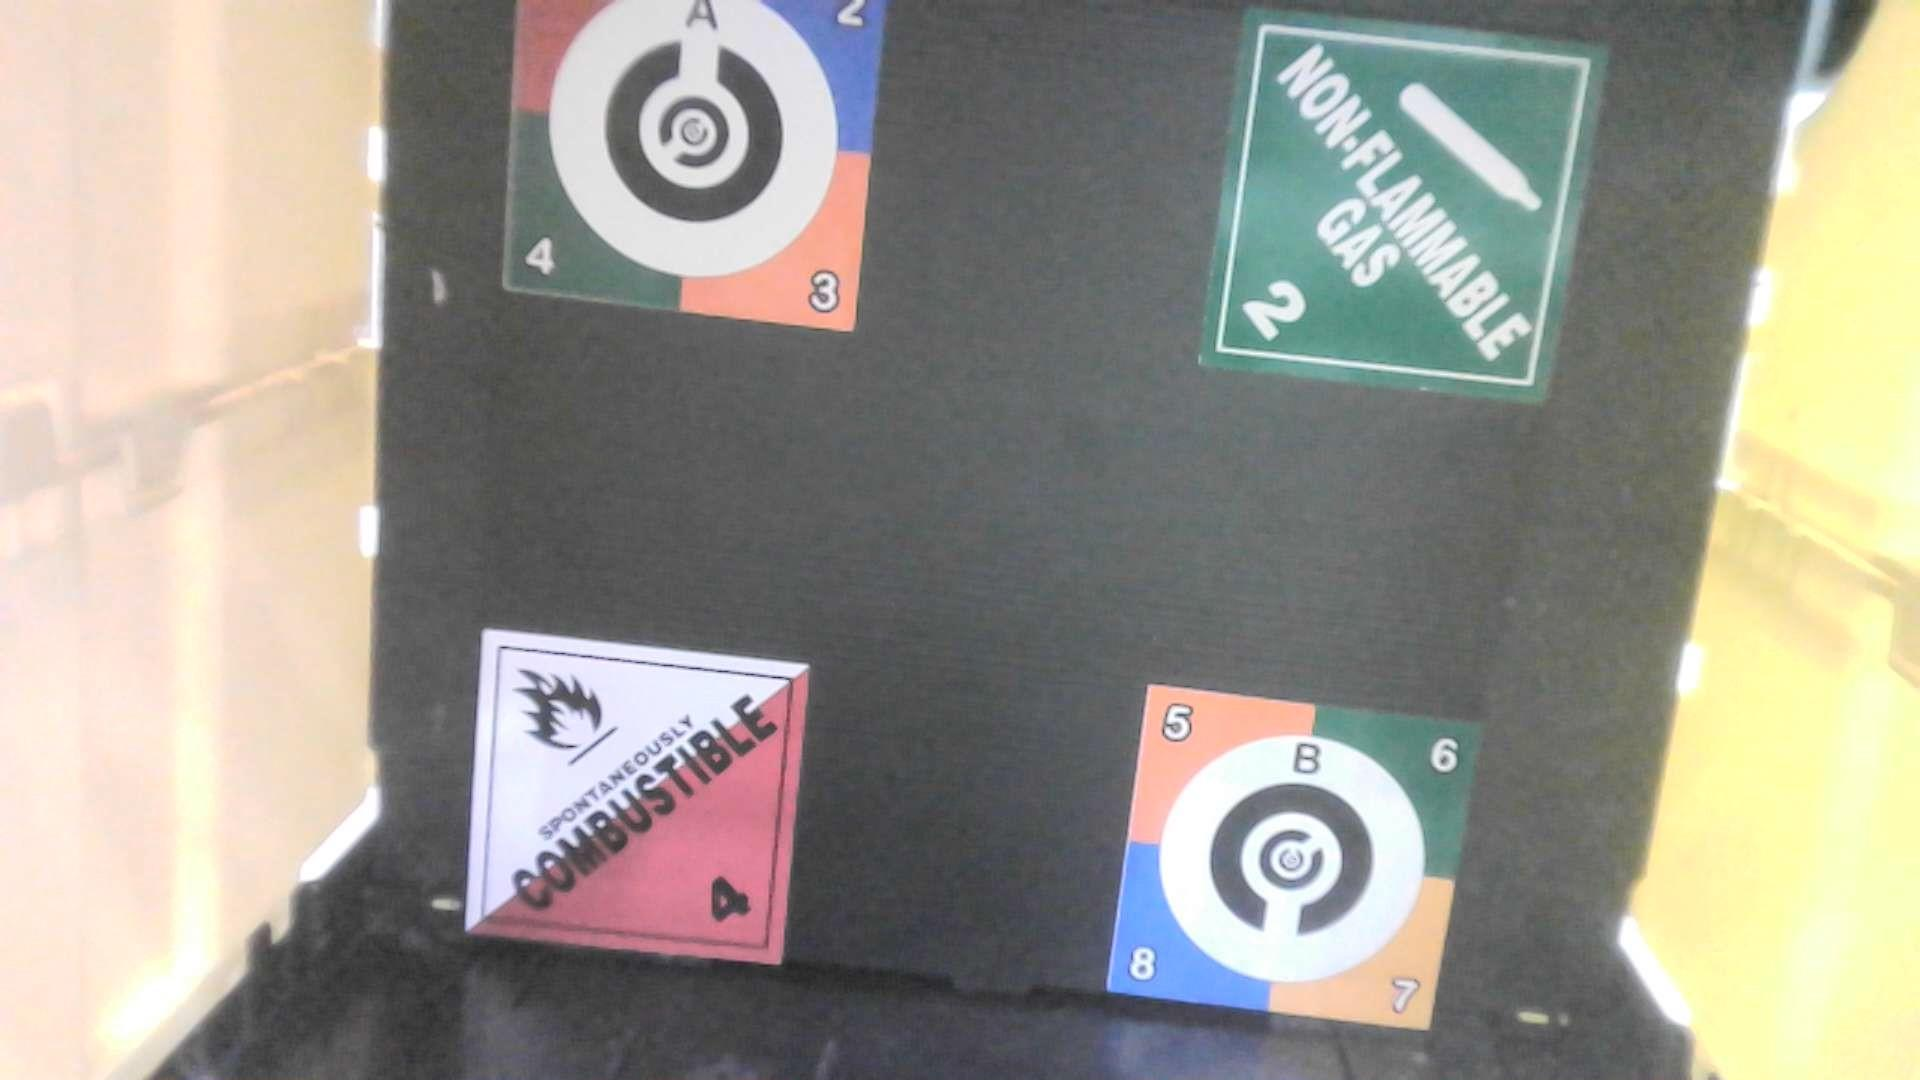non-flammable-gas: (1192, 1, 1610, 419)
spontaneously-combustible: (434, 621, 836, 976)
